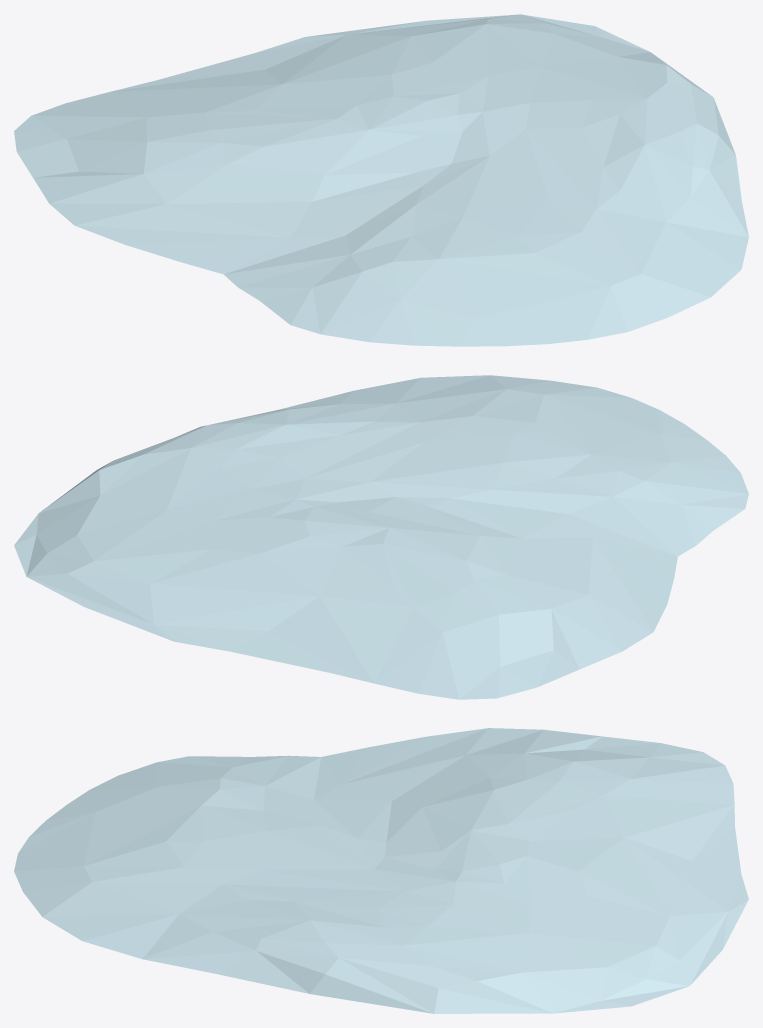
File: SM_Env_DirtMound_03_Snow.fbx
3 views of the same model, one above another, from view 1: azimuth 30°, elevation 25°; view 2: azimuth 150°, elevation 25°; view 3: azimuth 270°, elevation 25° (orthographic). The views are drawn at different scales.
Parts seen in each view (by area): view 1: SM_Env_DirtMound_03_Snow; view 2: SM_Env_DirtMound_03_Snow; view 3: SM_Env_DirtMound_03_Snow.
Boxes of the visible parts, x1,y1,x2,y2 form: SM_Env_DirtMound_03_Snow: [14, 14, 748, 346]; SM_Env_DirtMound_03_Snow: [14, 375, 748, 699]; SM_Env_DirtMound_03_Snow: [14, 728, 748, 1013].
Bounding box in the file's own units: 1622 × 84.08 × 1762.
